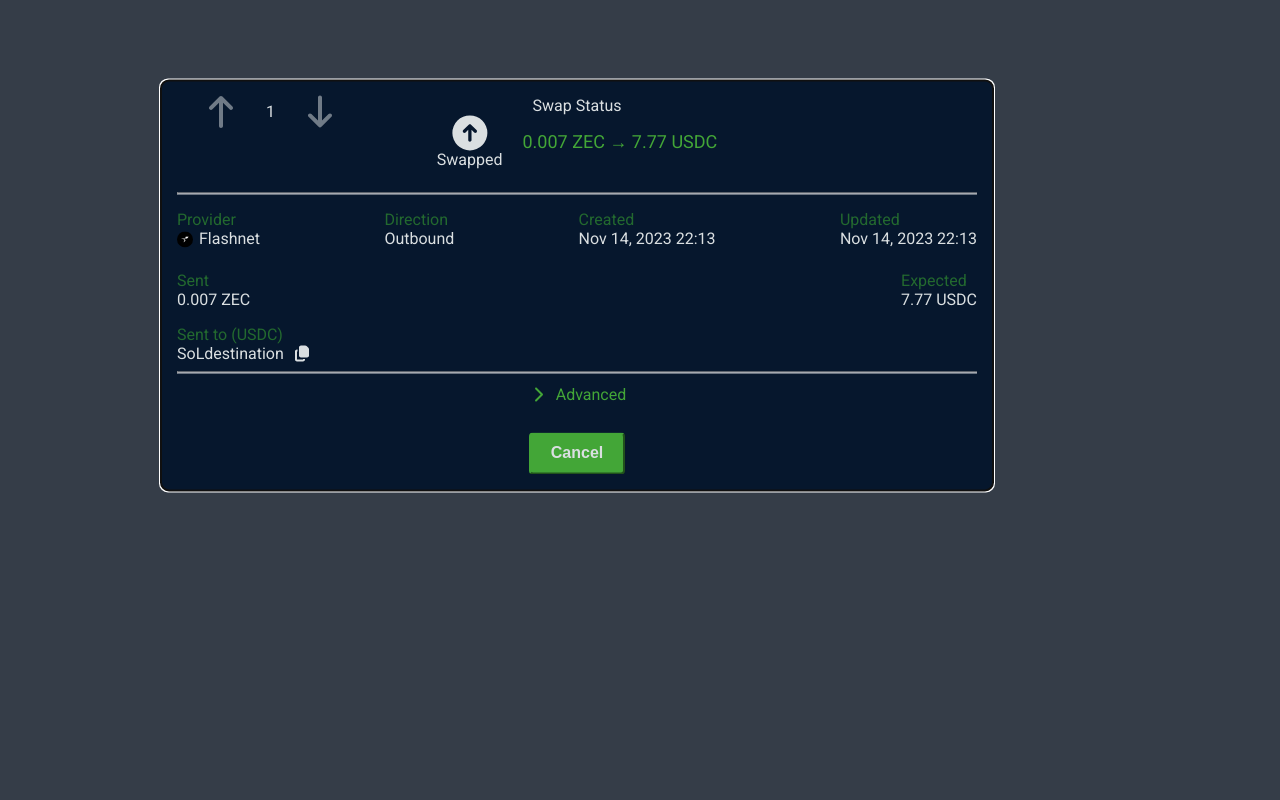
Scenario: SwapDetailModal trackers › keeps the swap’s own trackers, which belong to no one transaction
Click the button "Advanced" at (577, 394), box top-left (520, 381), bottom-right (634, 408)
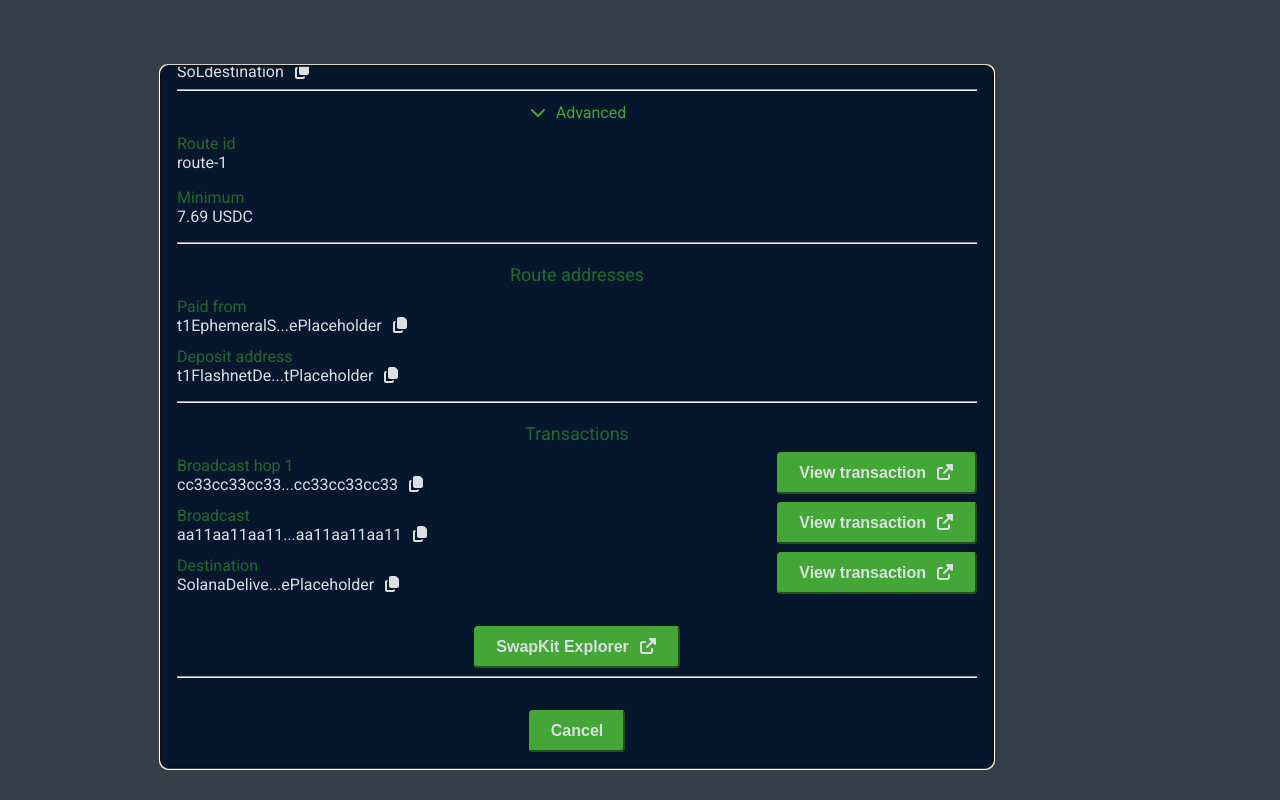
Expected: the button "SwapKit Explorer" is shown, top-left (474, 625), bottom-right (680, 667)
